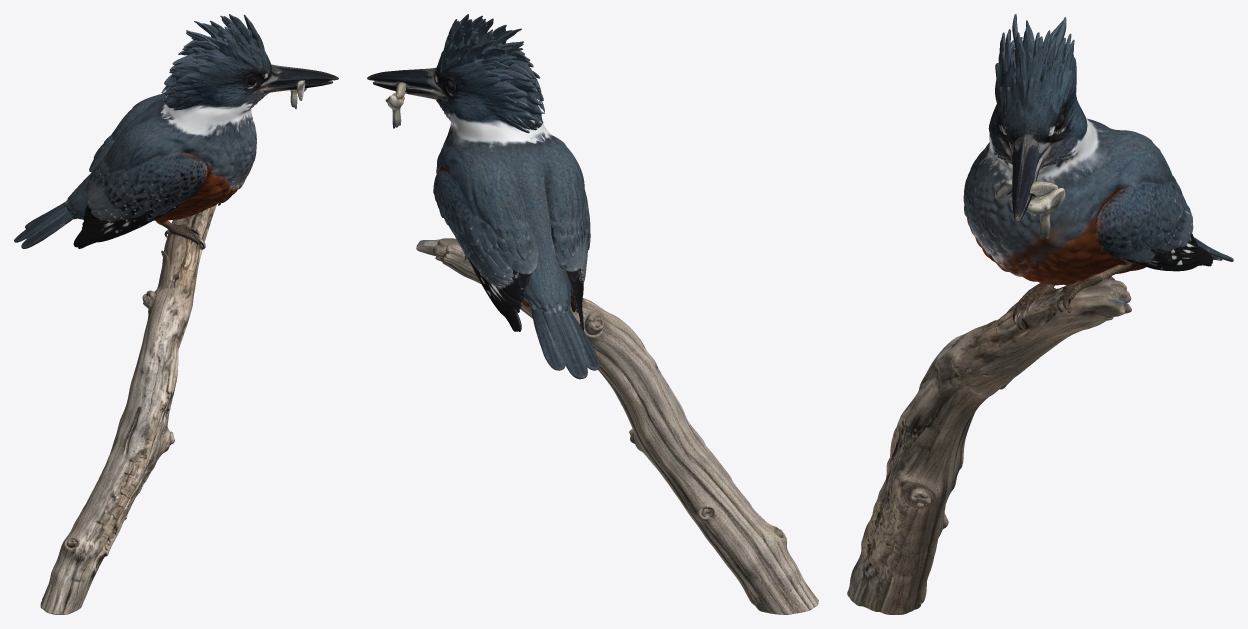
Rendered from martin.glb.
The picture shows the model from 3 angles, left to right: view 1: azimuth 30°, elevation 25°; view 2: azimuth 150°, elevation 25°; view 3: azimuth 270°, elevation 25°; orthographic projection. The views are drawn at different scales.
Bounding box in the file's own units: 1.38 × 1.9 × 0.917.
Materials: 1 (1 with a texture image).
